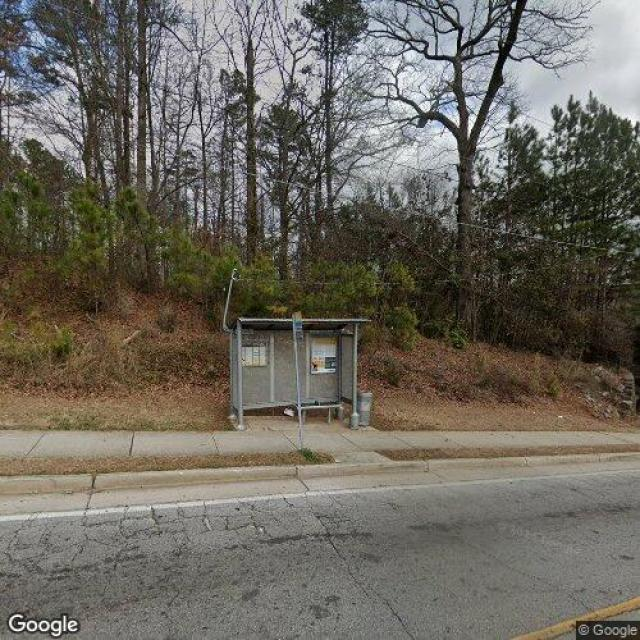seating: (294, 401, 342, 426)
shelter: (226, 318, 372, 430)
trash_can: (356, 390, 374, 428)
